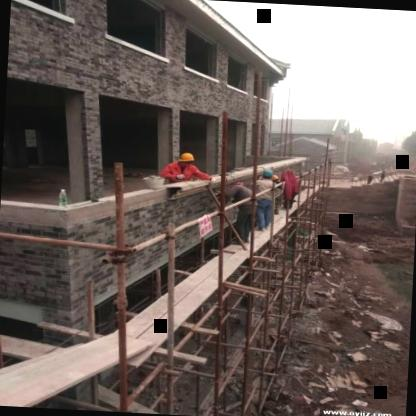helmet: (176, 149, 198, 172), (258, 166, 274, 184)
